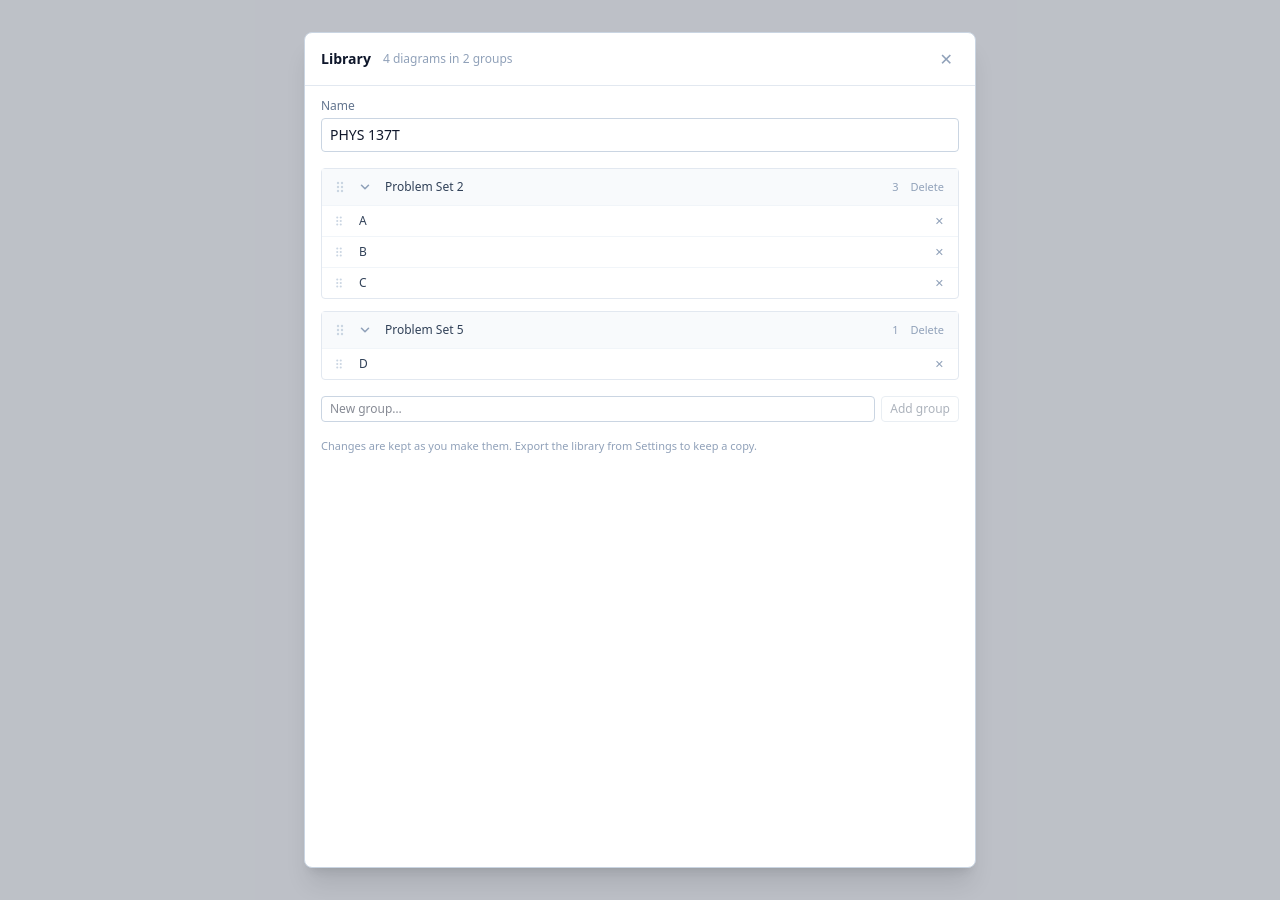
Test: collapsing groups › folds a group away
Click the button named "Collapse Problem Set 2" at (365, 187), box [356,178,374,196]
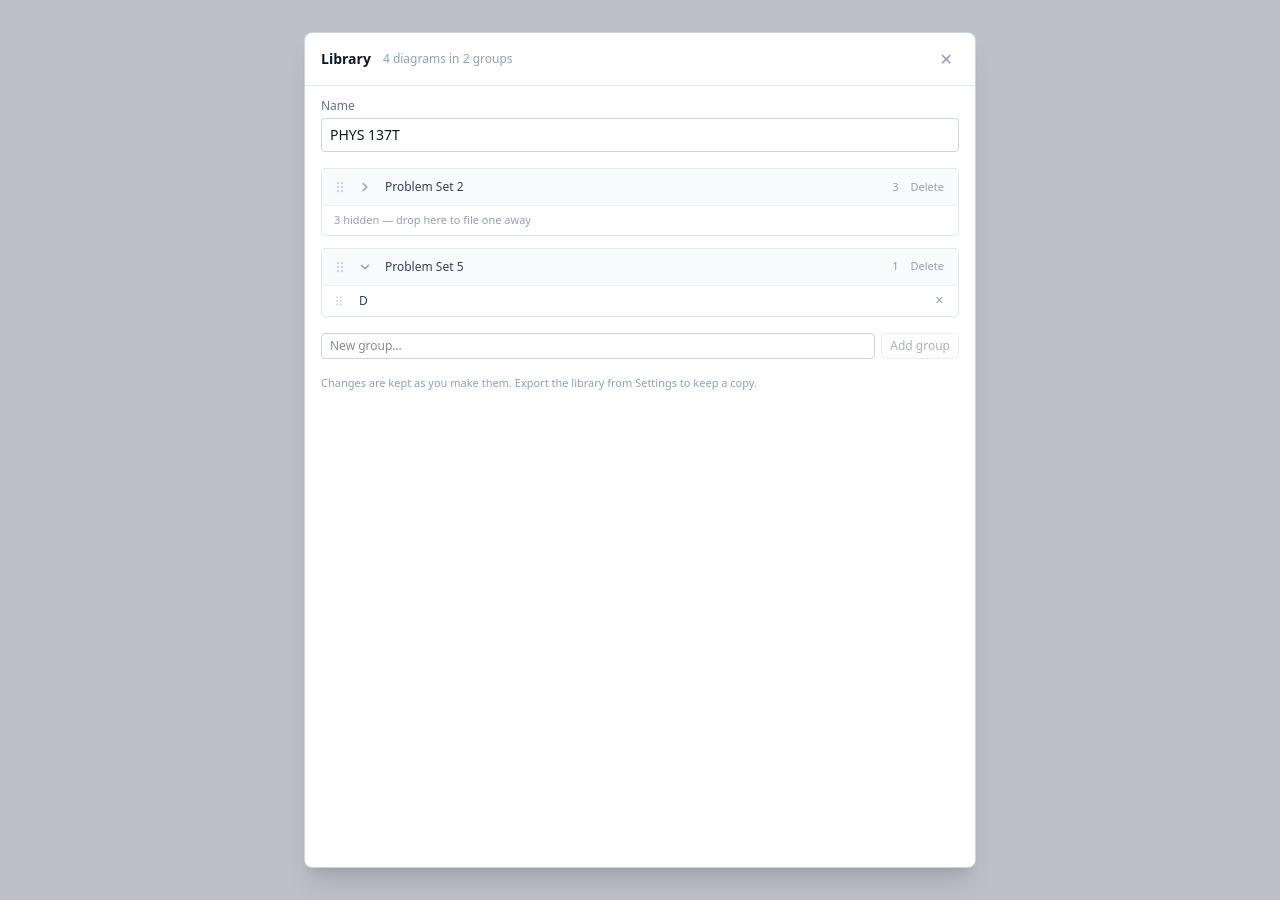
Result: the text "3 hidden" is shown at [334,212,531,227]
